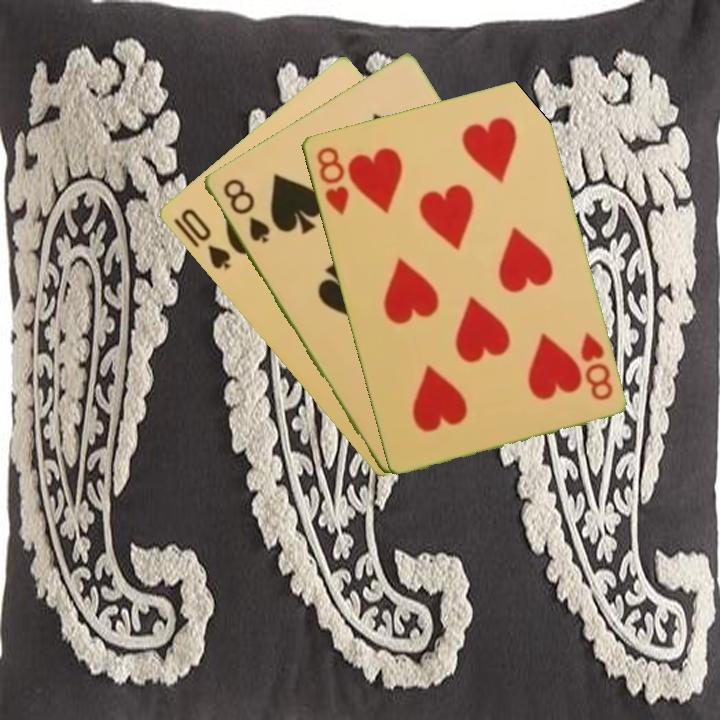10s: (176, 205, 233, 273)
8h: (312, 143, 352, 218), (576, 329, 616, 403)
8s: (218, 175, 272, 246)
